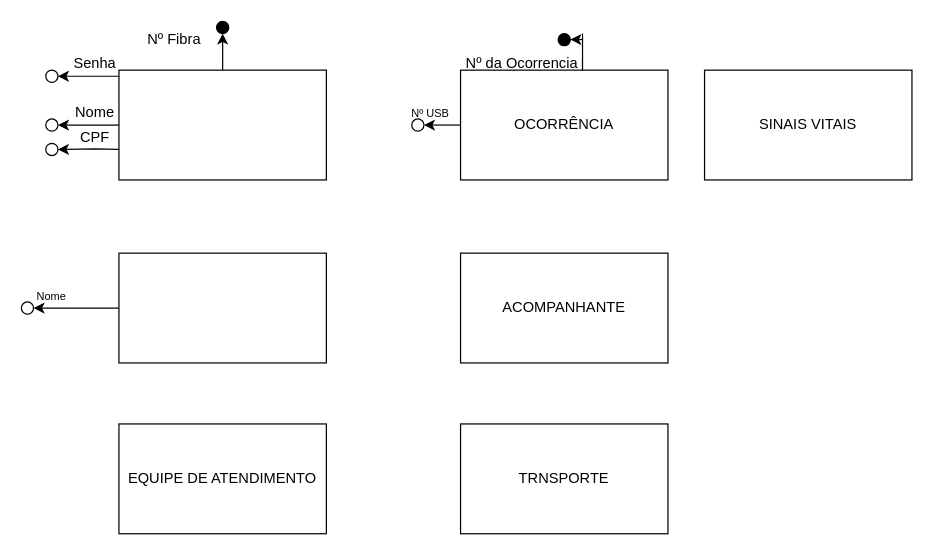
Some shapes in this 933 by 555 pixel diagram are drawn without their labels. Each missing label, with the box of its shape:
BOMBEIRO: (118, 69, 326, 180)
VÍTIMA: (118, 252, 326, 363)
